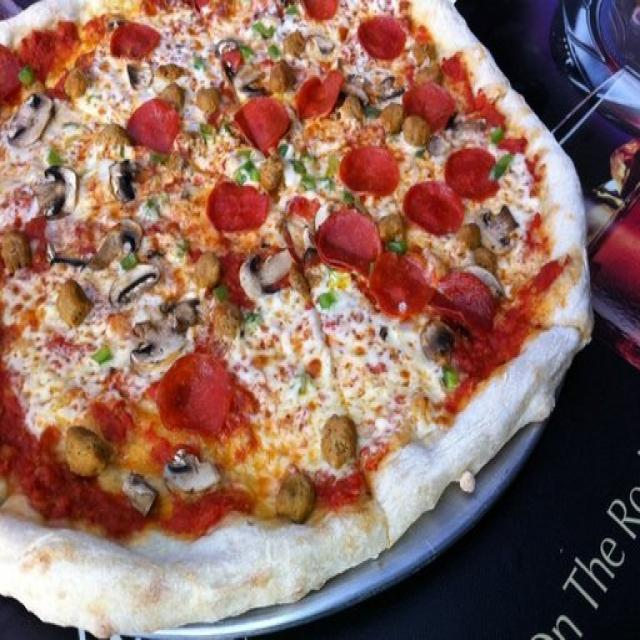Green Pepper: (288, 158, 314, 190), (490, 152, 510, 181), (236, 160, 258, 182), (253, 20, 274, 39), (93, 348, 115, 366), (316, 292, 336, 310), (18, 66, 36, 86), (490, 123, 504, 143), (444, 371, 459, 387), (244, 43, 257, 59), (215, 288, 229, 302), (267, 46, 282, 58)
Mushrooms: (129, 299, 197, 364), (242, 250, 294, 304), (109, 262, 161, 311), (90, 221, 140, 271), (35, 166, 81, 218), (429, 119, 486, 160), (166, 449, 216, 492), (8, 95, 49, 147), (474, 209, 514, 256), (125, 474, 158, 518), (423, 322, 452, 365), (307, 36, 341, 64), (109, 159, 132, 200), (344, 75, 371, 109), (129, 60, 154, 90)
Pepperoni: (159, 352, 233, 437), (432, 271, 496, 338), (314, 215, 378, 272), (373, 256, 426, 318), (128, 98, 183, 154), (208, 180, 266, 232), (404, 184, 465, 233), (340, 147, 398, 198), (232, 96, 282, 152), (448, 149, 494, 200), (295, 72, 338, 123), (109, 19, 160, 59), (90, 394, 132, 442), (358, 17, 406, 59), (404, 80, 455, 116), (24, 210, 51, 277), (227, 250, 243, 301), (303, 0, 336, 19)
